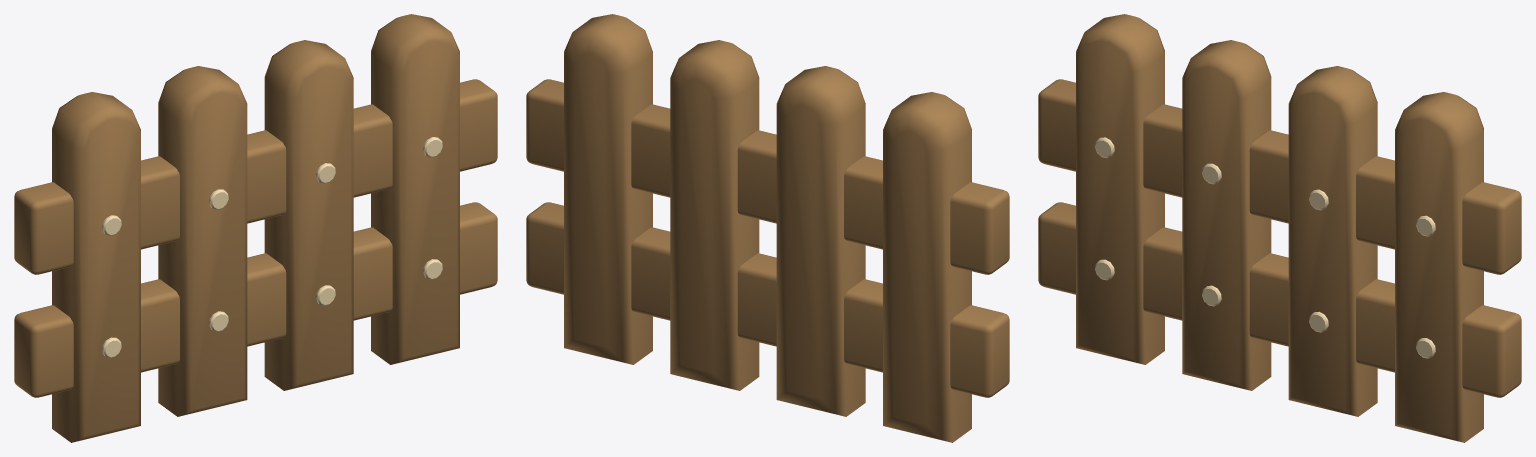
File: Game Wall_1.fbx
3 renders of one model, left to right at view 1: azimuth 30°, elevation 25°; view 2: azimuth 150°, elevation 25°; view 3: azimuth 330°, elevation 25°, orthographic.
Parts seen in each view (by area): view 1: Game Wall_1; view 2: Game Wall_1; view 3: Game Wall_1.
Boxes of the visible parts, <box> form: Game Wall_1: <box>14,14,497,442</box>; Game Wall_1: <box>526,14,1009,442</box>; Game Wall_1: <box>1038,14,1521,442</box>.
Bounding box in the file's own units: 0.7059 × 0.4726 × 0.0893.
